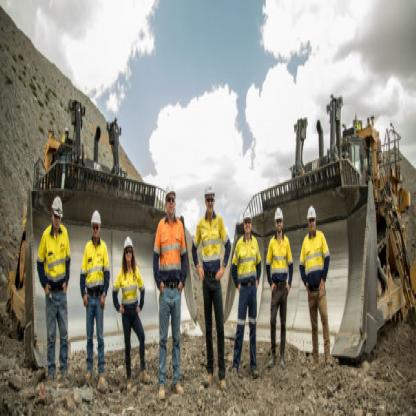bull_dozer/loader/grader: (222, 69, 415, 365), (6, 94, 204, 379)
person: (190, 168, 232, 396), (150, 176, 188, 404), (295, 190, 335, 382), (35, 202, 74, 374), (111, 222, 150, 394), (232, 192, 264, 390), (79, 196, 109, 388), (264, 179, 292, 379)
